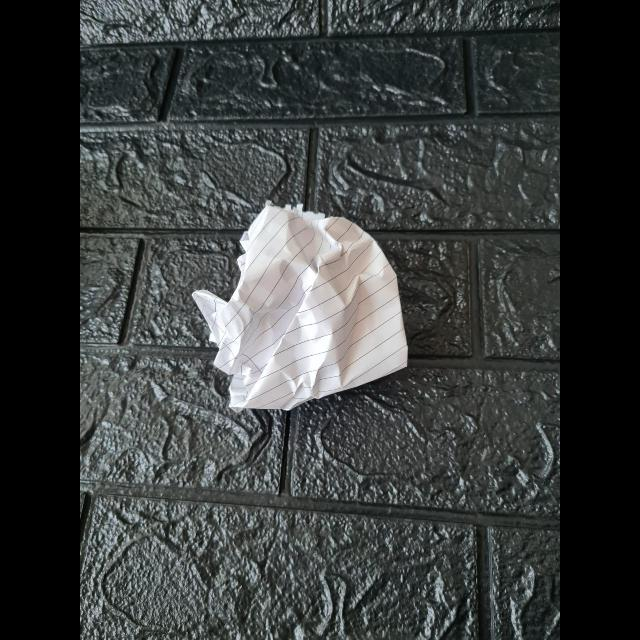scrap_paper: (198, 204, 408, 410)
